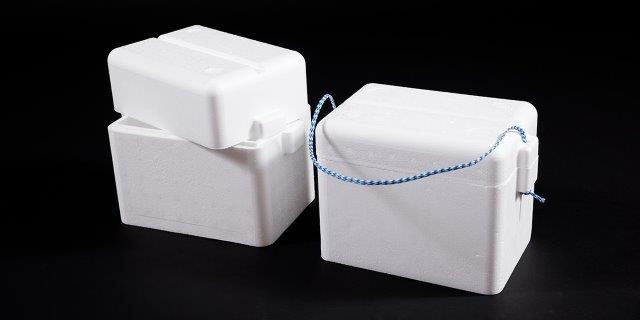sterofoam: (315, 85, 534, 292), (109, 25, 313, 243)
